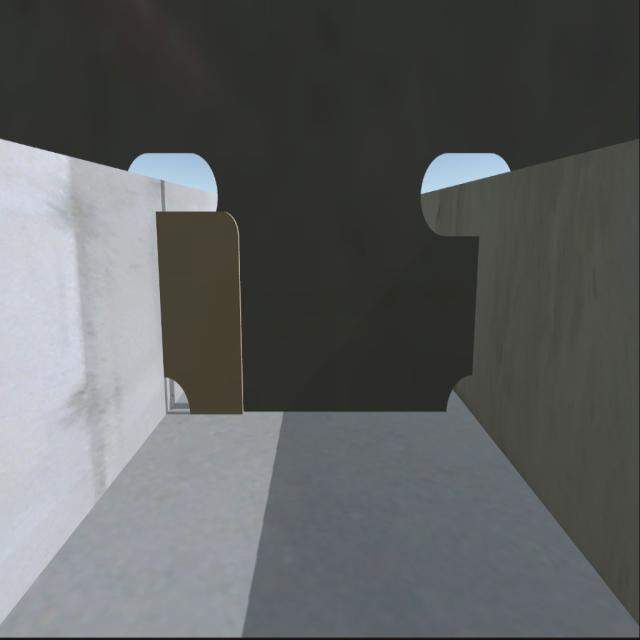fillet_hole: (445, 371, 475, 414), (163, 371, 192, 411)
fillet_yong_jeop_jang: (190, 407, 442, 417)
longi_yong_jeop_jang: (154, 215, 170, 377), (464, 239, 480, 366)
plate_CP05: (162, 210, 242, 408)
